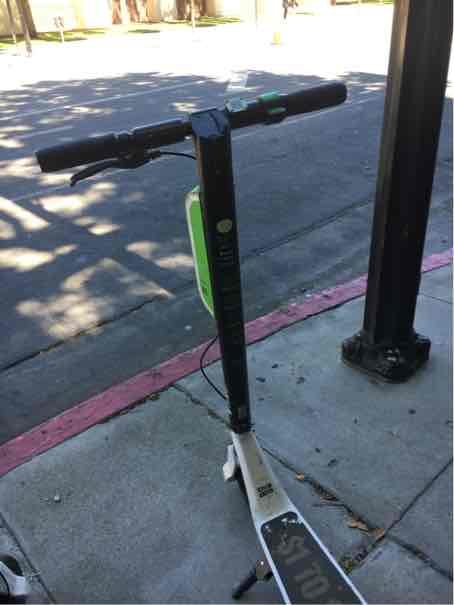scooter: (32, 77, 387, 605)
